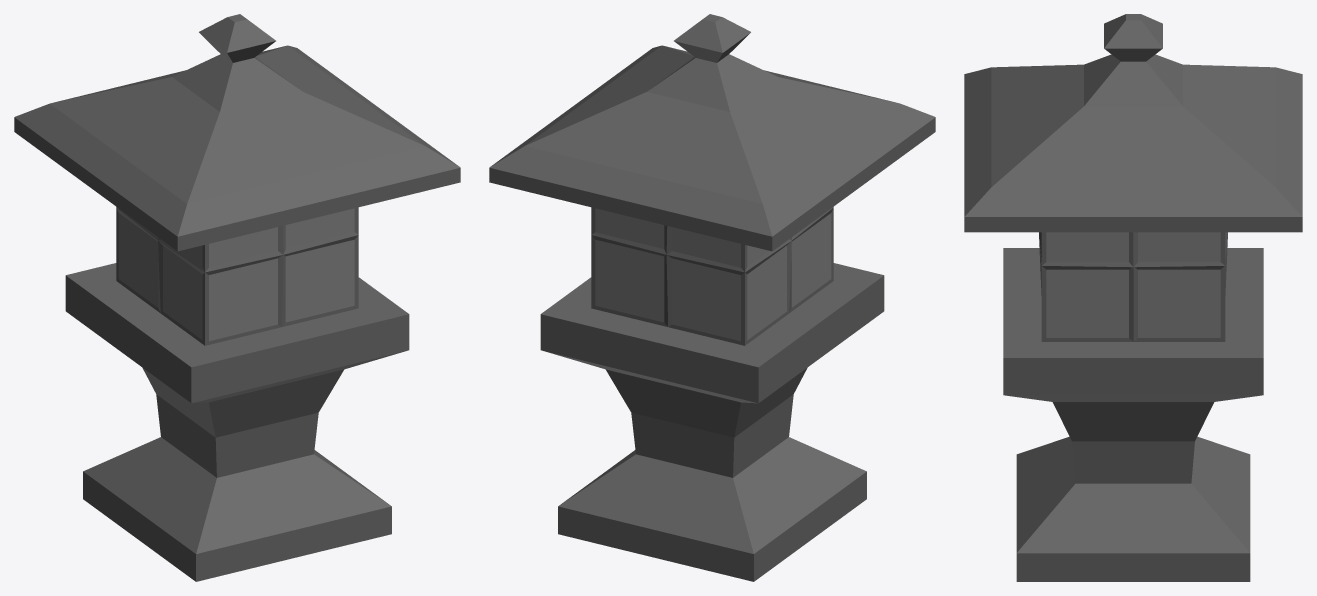
Rendered from Shrine_Statue_2.fbx.
3 views of the same model, side by side, from view 1: azimuth 30°, elevation 25°; view 2: azimuth 150°, elevation 25°; view 3: azimuth 270°, elevation 25° (orthographic). The views are drawn at different scales.
Parts seen in each view (by area): view 1: Shrine_Statue_2; view 2: Shrine_Statue_2; view 3: Shrine_Statue_2.
Part boxes in pixels (x1,y1,x2,y2): Shrine_Statue_2: (14, 14, 460, 581); Shrine_Statue_2: (489, 14, 935, 581); Shrine_Statue_2: (964, 14, 1302, 581).
Bounding box in the file's own units: 159 × 268 × 159.
